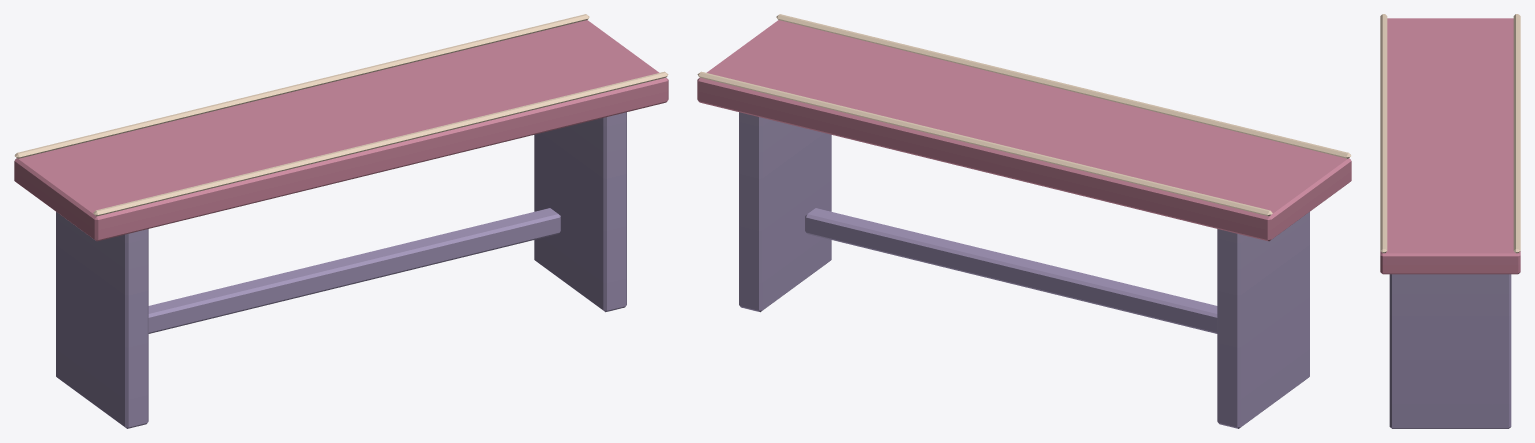
The model's file is gym-bench.glb.
3 views of the same model, side by side, from view 1: azimuth 30°, elevation 25°; view 2: azimuth 150°, elevation 25°; view 3: azimuth 270°, elevation 25° (orthographic). The views are drawn at different scales.
Visible parts, largest first — view 1: flat_bench; view 2: flat_bench; view 3: flat_bench.
Part boxes in pixels (x1=…): flat_bench: x1=14, y1=14, x2=668, y2=428; flat_bench: x1=697, y1=14, x2=1351, y2=428; flat_bench: x1=1380, y1=14, x2=1520, y2=428.
Size of the model in its own units: 1.2 by 0.46 by 0.3.
Materials: 1 (1 with a texture image).
